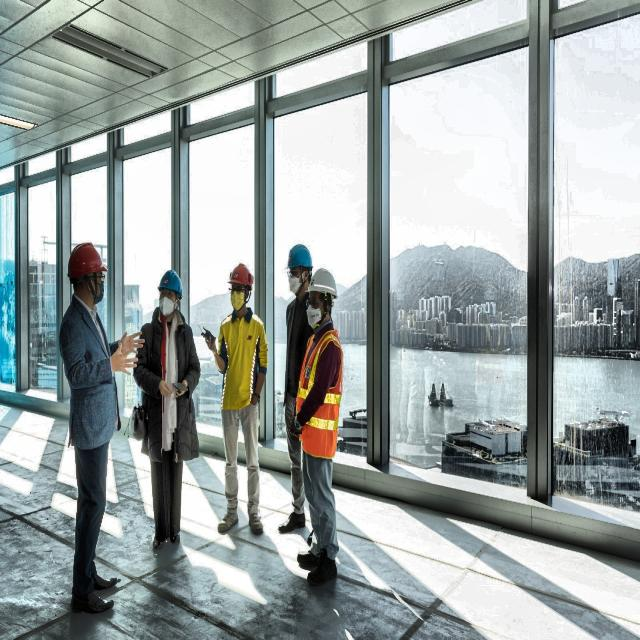safety_helmet: (66, 240, 110, 284), (155, 268, 186, 322), (304, 262, 344, 300), (221, 259, 256, 291), (283, 242, 315, 274)
safety_jacket: (291, 332, 343, 466)
